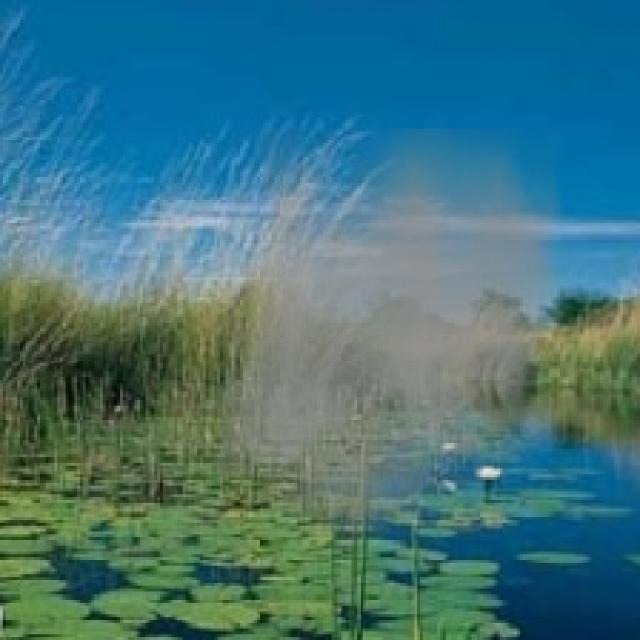smoke: (220, 129, 563, 554)
